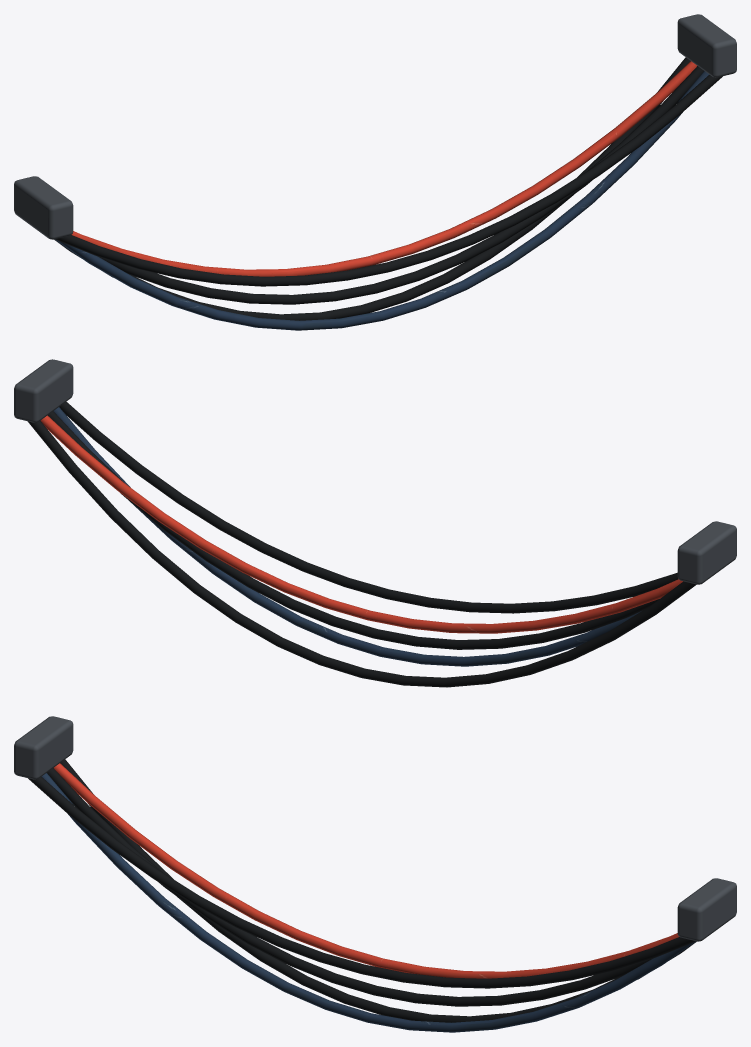
The model's file is CableBundle.glb.
3 renders of one model, top to bottom at view 1: azimuth 30°, elevation 25°; view 2: azimuth 150°, elevation 25°; view 3: azimuth 330°, elevation 25°, orthographic.
Visible parts, largest first — view 1: CableBundle_Body; view 2: CableBundle_Body; view 3: CableBundle_Body.
Part boxes in pixels (x1,y1,x2,y2): CableBundle_Body: (14, 14, 736, 330); CableBundle_Body: (14, 359, 736, 687); CableBundle_Body: (14, 716, 736, 1032).
Size of the model in its own units: 1.66 by 0.4935 by 0.16.
Materials: 4 (2 with a texture image).
